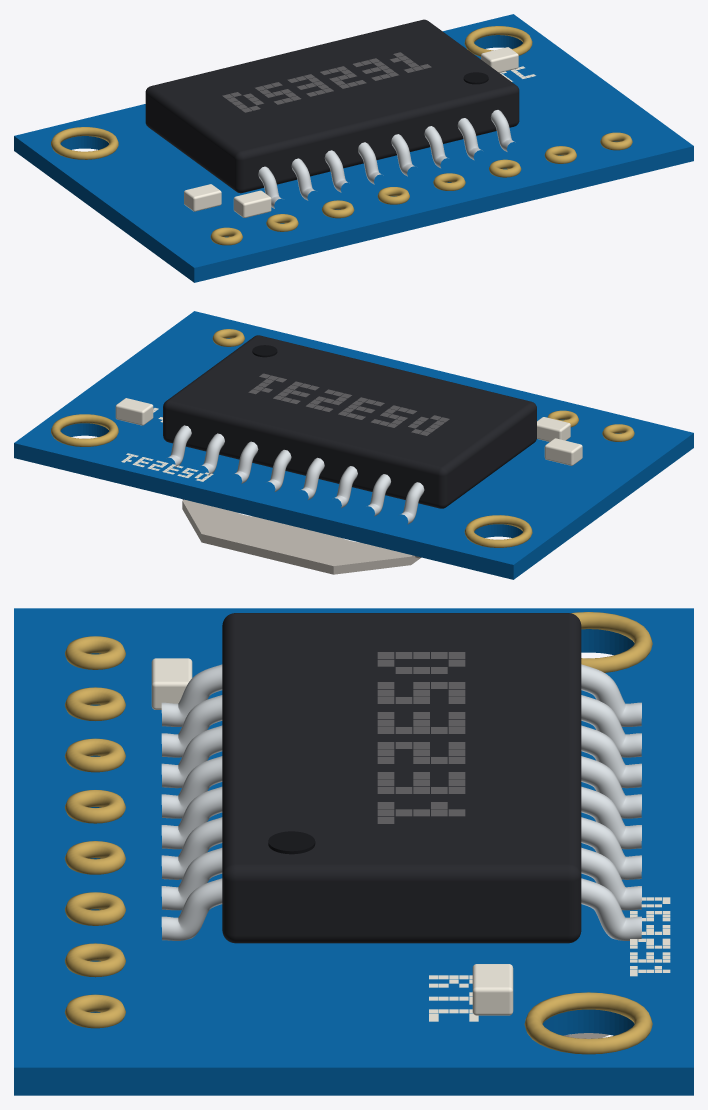
The model's file is components-39.glb.
3 views of the same model, one above another, from view 1: azimuth 30°, elevation 25°; view 2: azimuth 150°, elevation 25°; view 3: azimuth 270°, elevation 25° (orthographic). The views are drawn at different scales.
Visible parts, largest first — view 1: board, chip, pads, mounts; view 2: board, chip, backup, mounts, pads; view 3: board, chip, pads, mounts.
Part boxes in pixels (bbox=[...]): board: bbox=[14, 14, 693, 282]; chip: bbox=[145, 19, 519, 208]; pads: bbox=[210, 132, 632, 245]; mounts: bbox=[51, 26, 532, 159]; board: bbox=[14, 311, 693, 579]; chip: bbox=[163, 335, 536, 524]; backup: bbox=[182, 499, 421, 574]; mounts: bbox=[51, 414, 532, 547]; pads: bbox=[212, 329, 634, 441]; board: bbox=[14, 608, 693, 1095]; chip: bbox=[161, 613, 641, 943]; pads: bbox=[64, 636, 125, 1028]; mounts: bbox=[524, 612, 652, 1054].
Bounding box in the file's own units: 2.27 × 0.4981 × 1.42.
